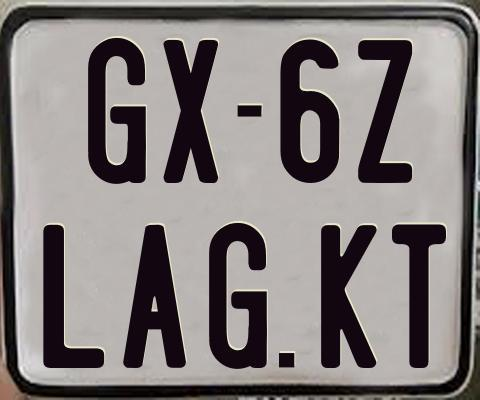6: (280, 39, 345, 183)
A: (123, 223, 190, 371)
G: (208, 223, 270, 374), (88, 37, 150, 183)
K: (320, 223, 378, 370)
L: (41, 224, 105, 369)
T: (389, 223, 443, 373)
X: (160, 39, 220, 186)
Z: (356, 39, 416, 188)
